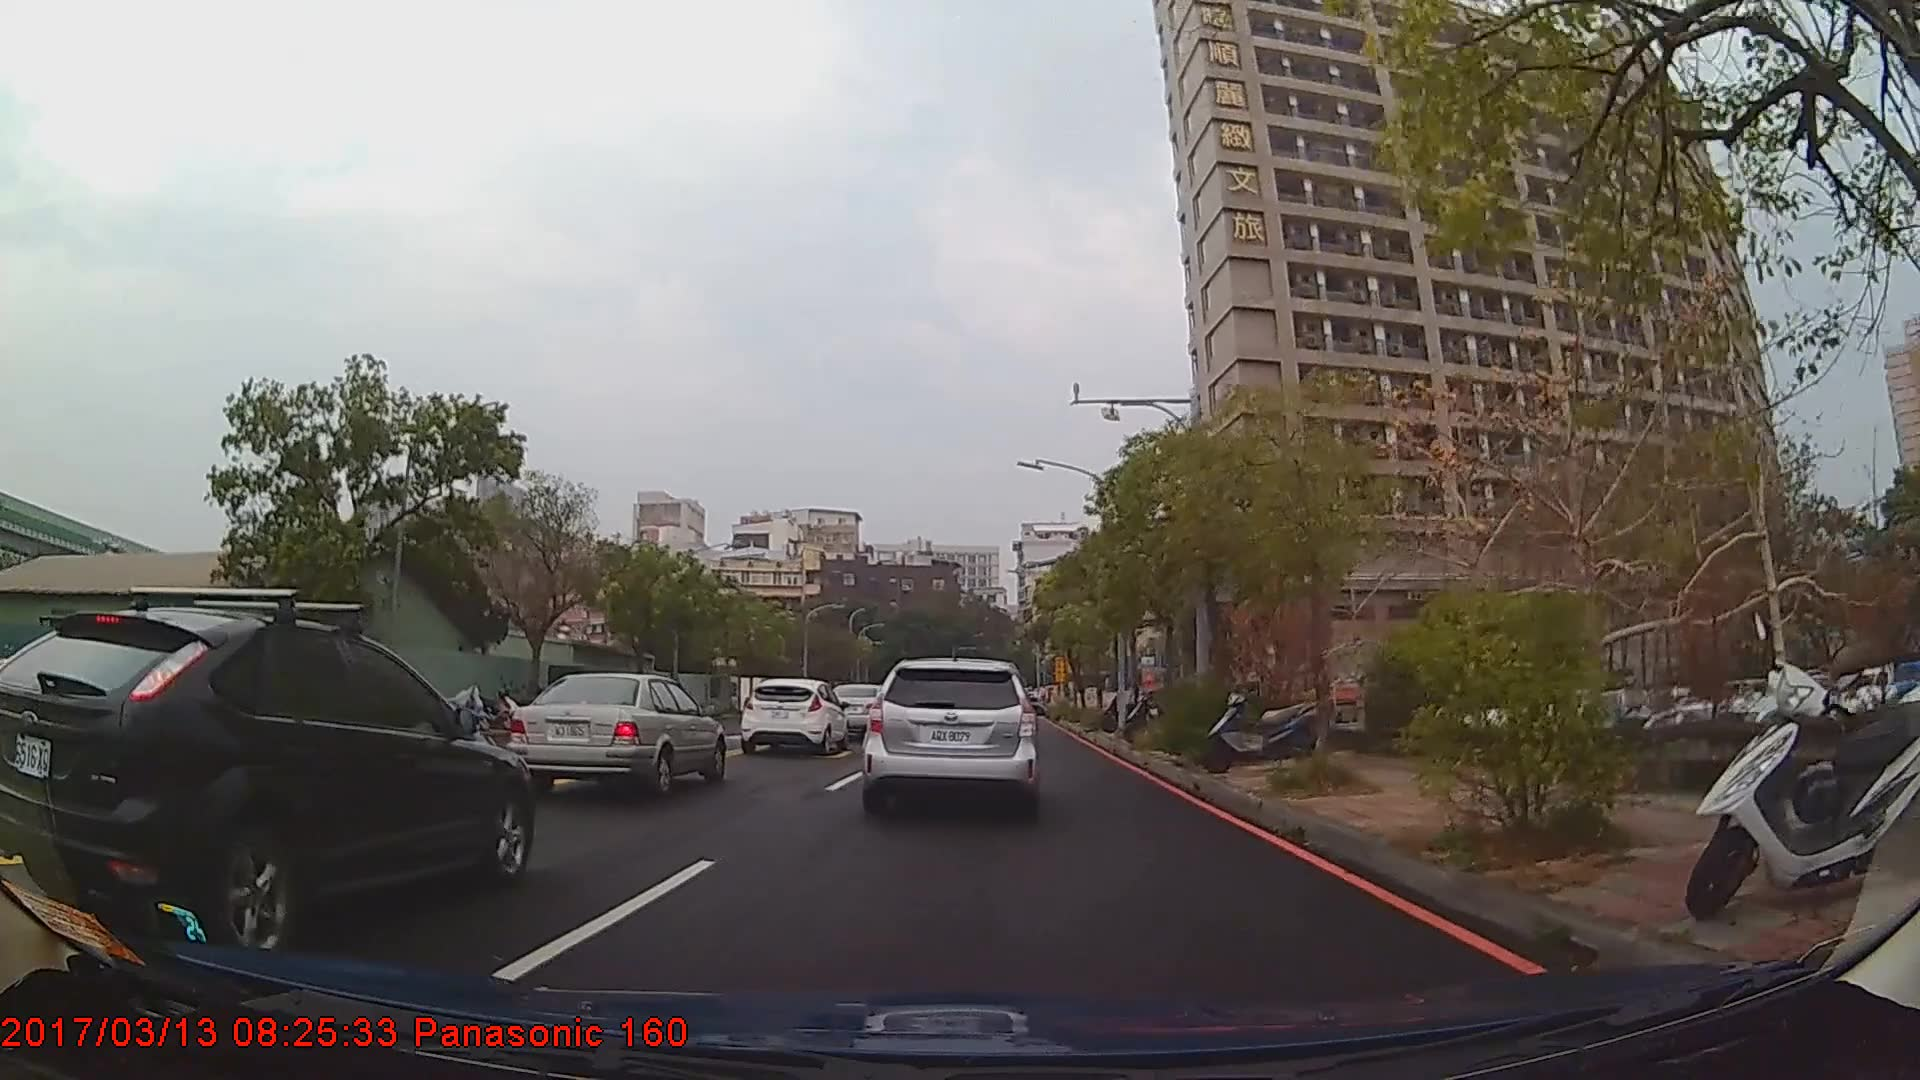vehicle: (0, 604, 534, 957), (861, 658, 1039, 816), (506, 673, 725, 799), (738, 679, 848, 756)
